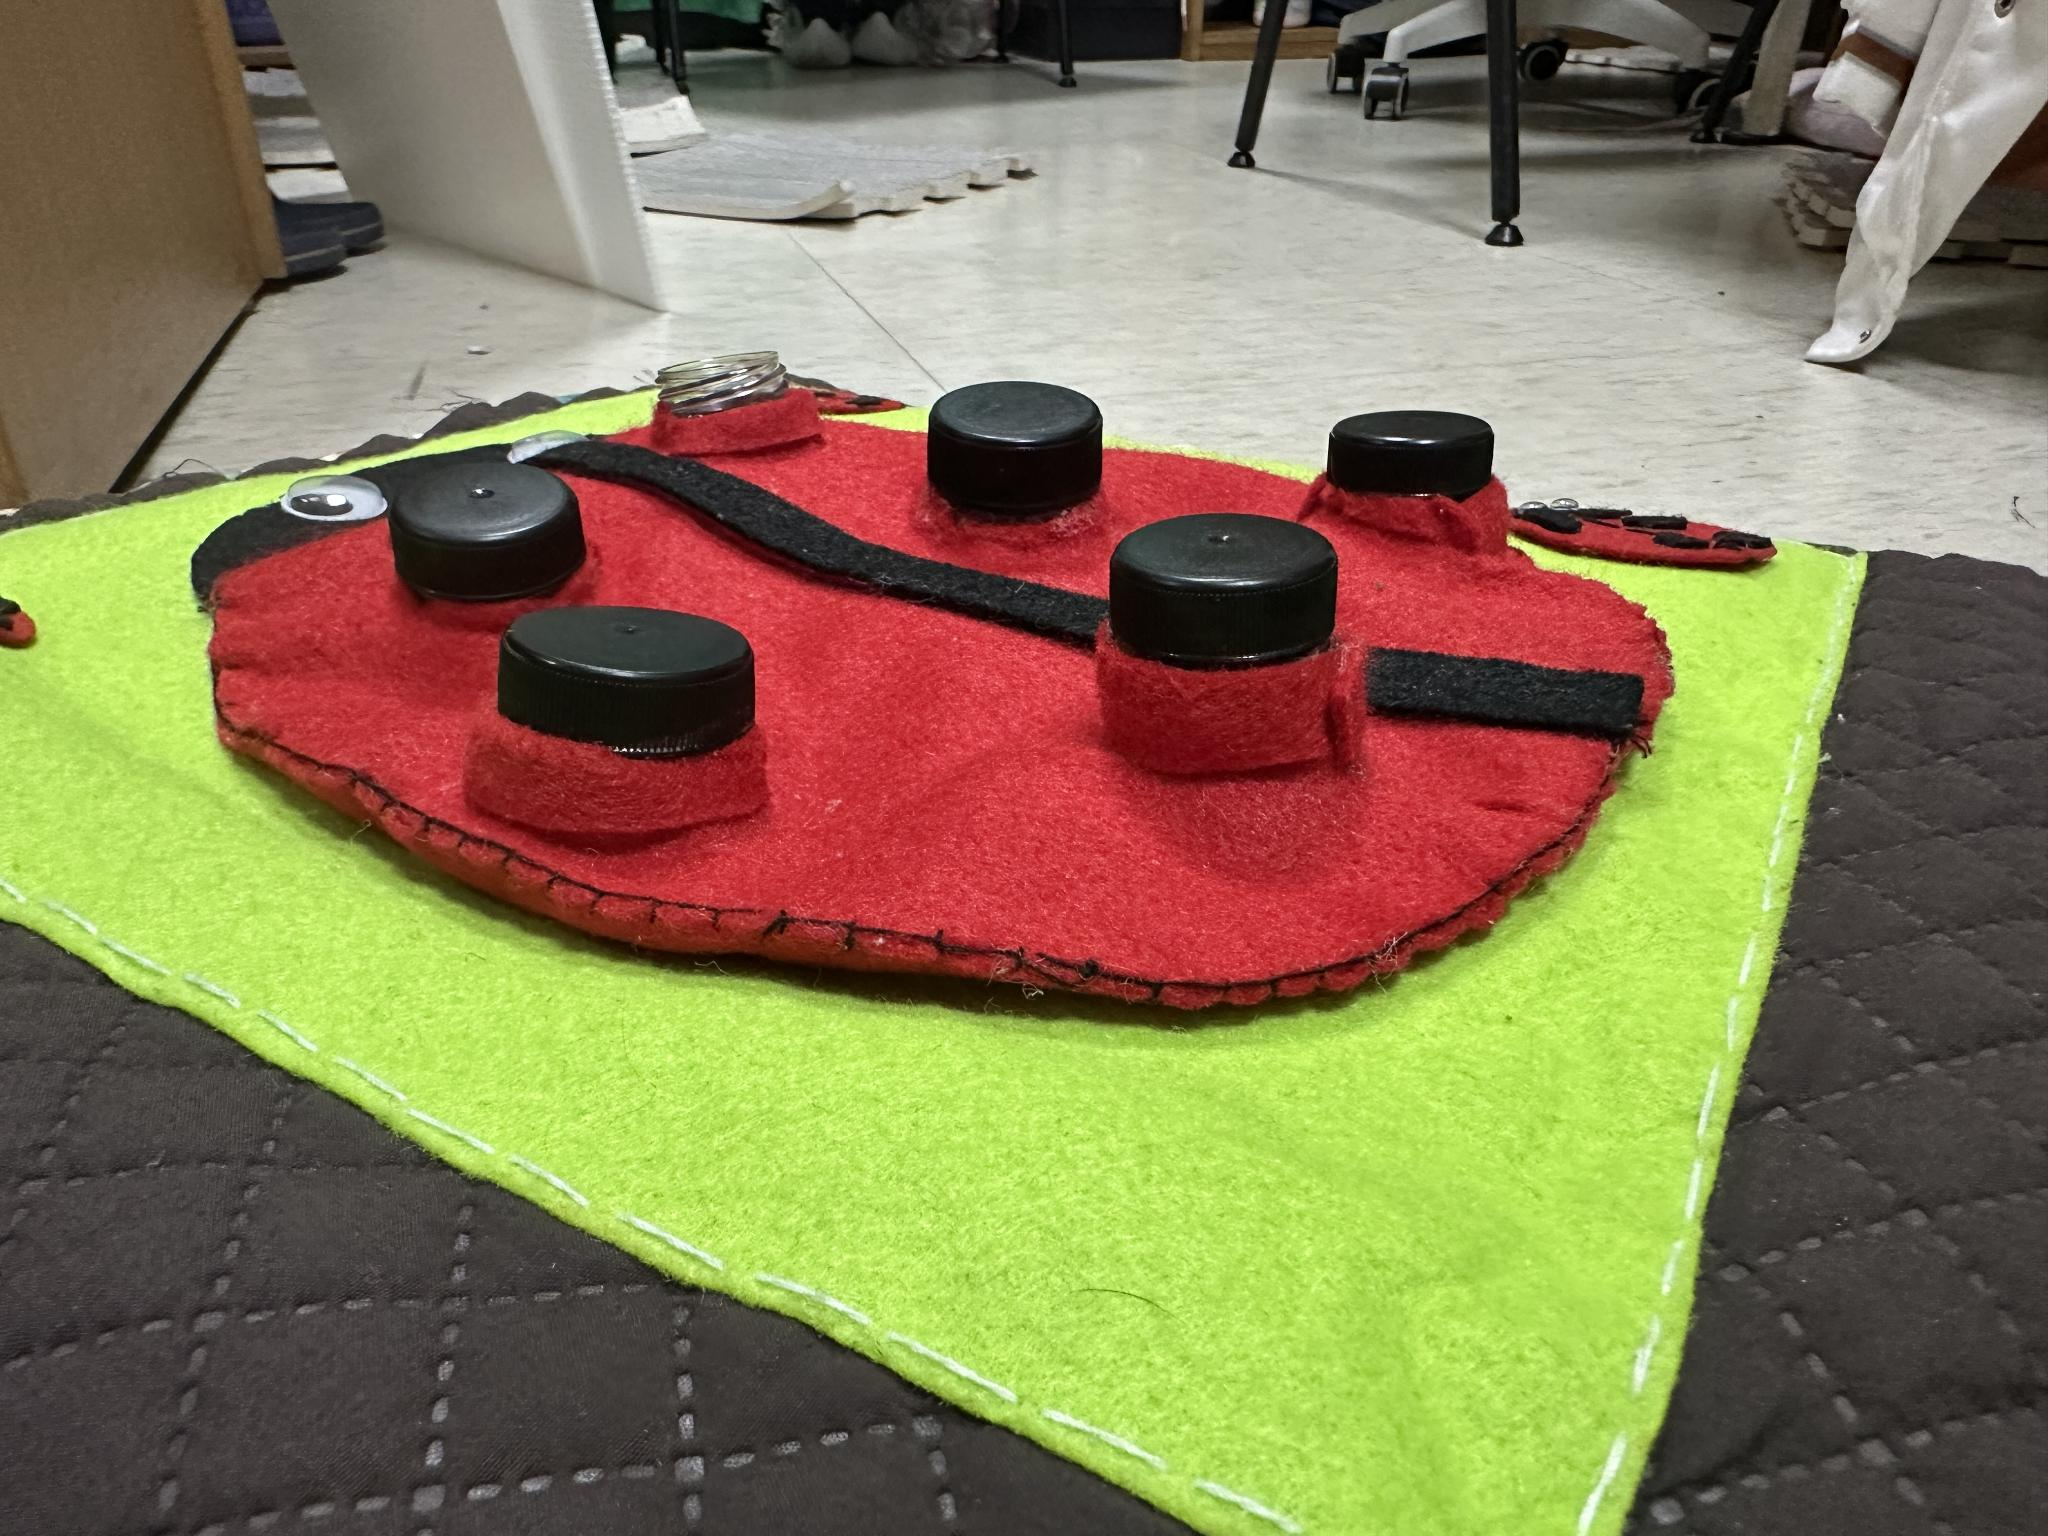cap_ok: (1082, 503, 1380, 800), (471, 594, 797, 844), (1288, 386, 1558, 547), (384, 450, 613, 628), (893, 361, 1113, 537)
